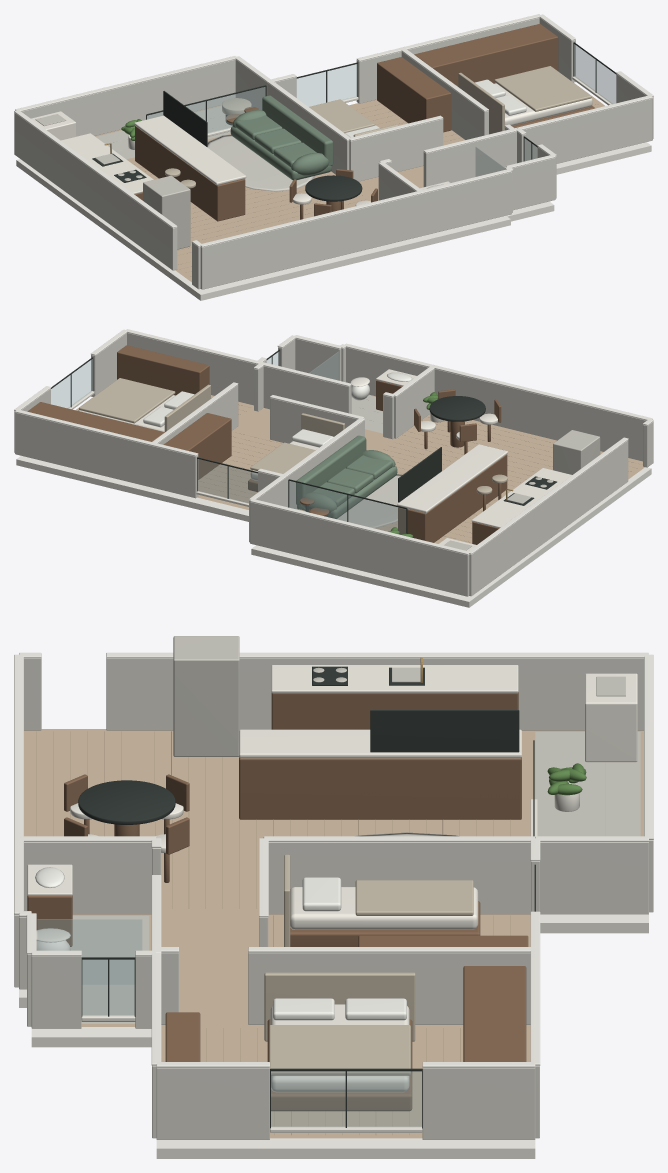
Rendered from moradas-type-3.glb.
3 renders of one model, top to bottom at view 1: azimuth 30°, elevation 25°; view 2: azimuth 150°, elevation 25°; view 3: azimuth 270°, elevation 25°, orthographic. The views are drawn at different scales.
Parts seen in each view (by area): view 1: architecture_plaster.002, architecture_cap.002, bedroom_oak.002, living_sage.002, architecture_glass.002, kitchen_ivory.002, bedroom_linen.002, single_oak.002, kitchen_oak.002, living_floor.002, living_charcoal.002, kitchen_stone.002 (+13 smaller); view 2: architecture_plaster.002, architecture_cap.002, architecture_glass.002, living_floor.002, bedroom_oak.002, living_sage.002, kitchen_ivory.002, kitchen_oak.002, bedroom_linen.002, single_floor.002, single_oak.002, living_charcoal.002 (+14 smaller); view 3: architecture_plaster.002, architecture_cap.002, kitchen_oak.002, living_floor.002, architecture_floor.002, bedroom_linen.002, architecture_glass.002, bedroom_oak.002, kitchen_ivory.002, living_charcoal.002, kitchen_stone.002, balcony_stone.002 (+21 smaller).
Part boxes in pixels (box(x1,y1,x2,y2)): architecture_plaster.002: box(14, 17, 653, 289); architecture_cap.002: box(14, 14, 653, 300); bedroom_oak.002: box(414, 24, 594, 127); living_sage.002: box(230, 95, 333, 180); architecture_glass.002: box(147, 44, 615, 160); kitchen_ivory.002: box(61, 115, 246, 194); bedroom_linen.002: box(458, 66, 591, 134); single_oak.002: box(377, 57, 451, 132); kitchen_oak.002: box(134, 126, 245, 221); living_floor.002: box(131, 159, 369, 278); living_charcoal.002: box(163, 91, 362, 201); kitchen_stone.002: box(95, 154, 190, 249); architecture_plaster.002: box(14, 332, 653, 596); architecture_cap.002: box(14, 329, 653, 607); architecture_glass.002: box(51, 351, 405, 534); living_floor.002: box(375, 415, 642, 543); bedroom_oak.002: box(27, 345, 209, 441); living_sage.002: box(296, 435, 397, 518); kitchen_ivory.002: box(397, 444, 571, 528); kitchen_oak.002: box(398, 454, 507, 544); bedroom_linen.002: box(79, 378, 210, 431); single_floor.002: box(198, 430, 282, 507); single_oak.002: box(163, 413, 257, 491); living_charcoal.002: box(305, 396, 485, 512); architecture_plaster.002: box(14, 658, 653, 1139); architecture_cap.002: box(14, 652, 653, 1158); kitchen_oak.002: box(239, 692, 521, 819); living_floor.002: box(25, 731, 527, 909); architecture_floor.002: box(24, 729, 643, 1138); bedroom_linen.002: box(264, 972, 415, 1075); architecture_glass.002: box(82, 960, 421, 1126); bedroom_oak.002: box(165, 966, 526, 1111); kitchen_ivory.002: box(239, 665, 521, 758); living_charcoal.002: box(78, 710, 519, 824); kitchen_stone.002: box(173, 636, 420, 756); balcony_stone.002: box(535, 732, 640, 836).
Size of the model in its own units: 10.4 by 1.53 by 6.8.
